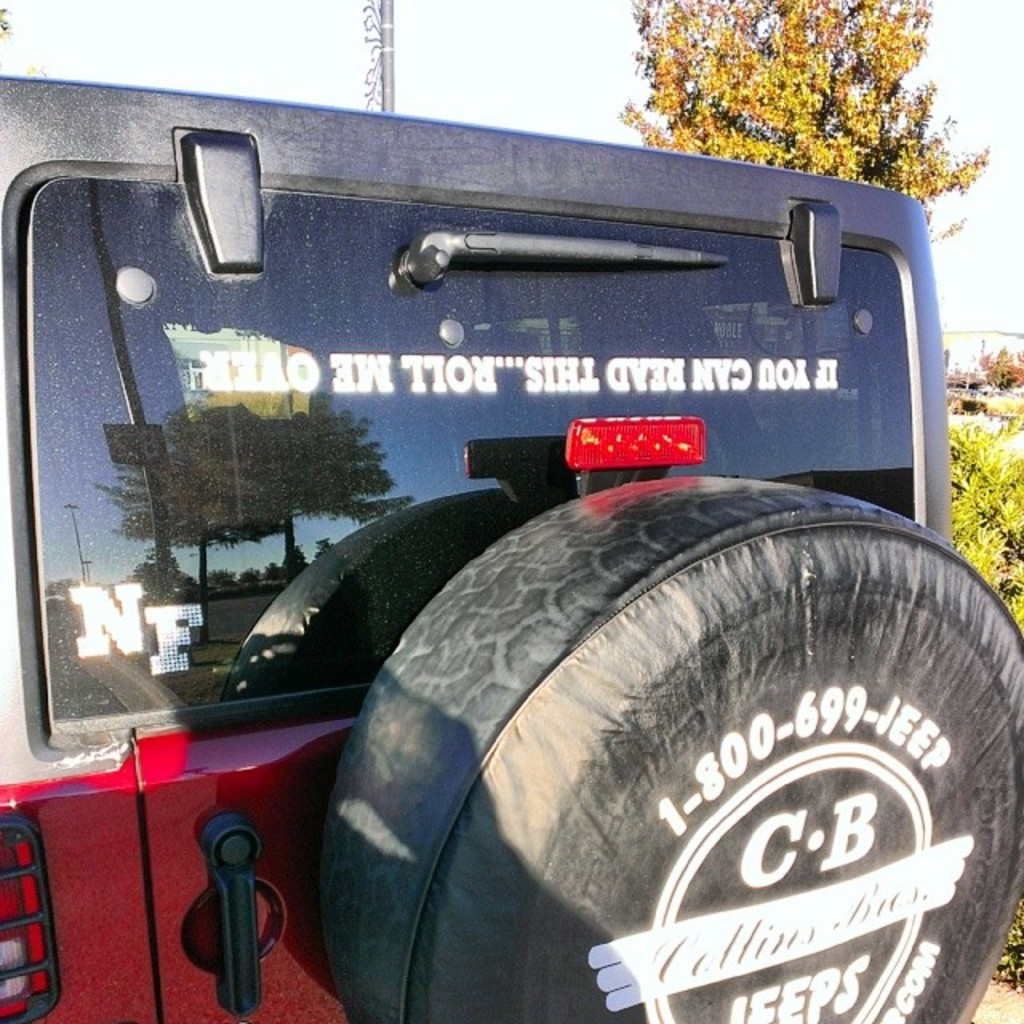Tree: (615, 0, 993, 240)
